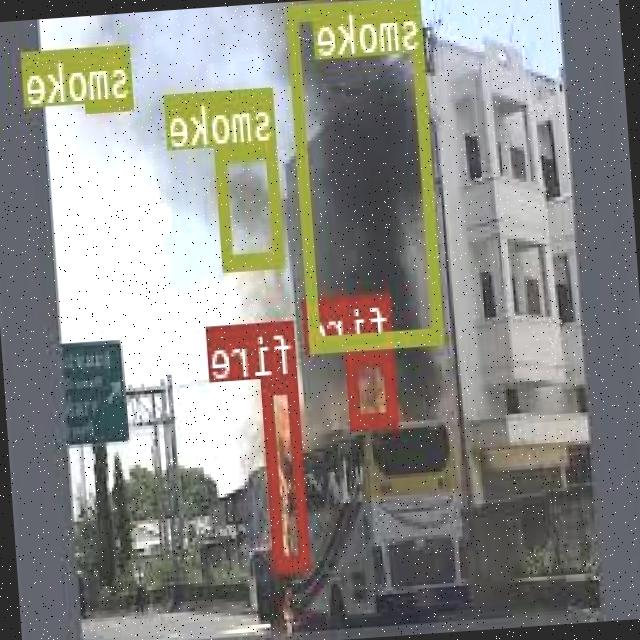fire: (264, 374, 312, 567), (349, 347, 399, 428)
smoke: (289, 0, 446, 350), (217, 142, 286, 267), (84, 44, 134, 107)
